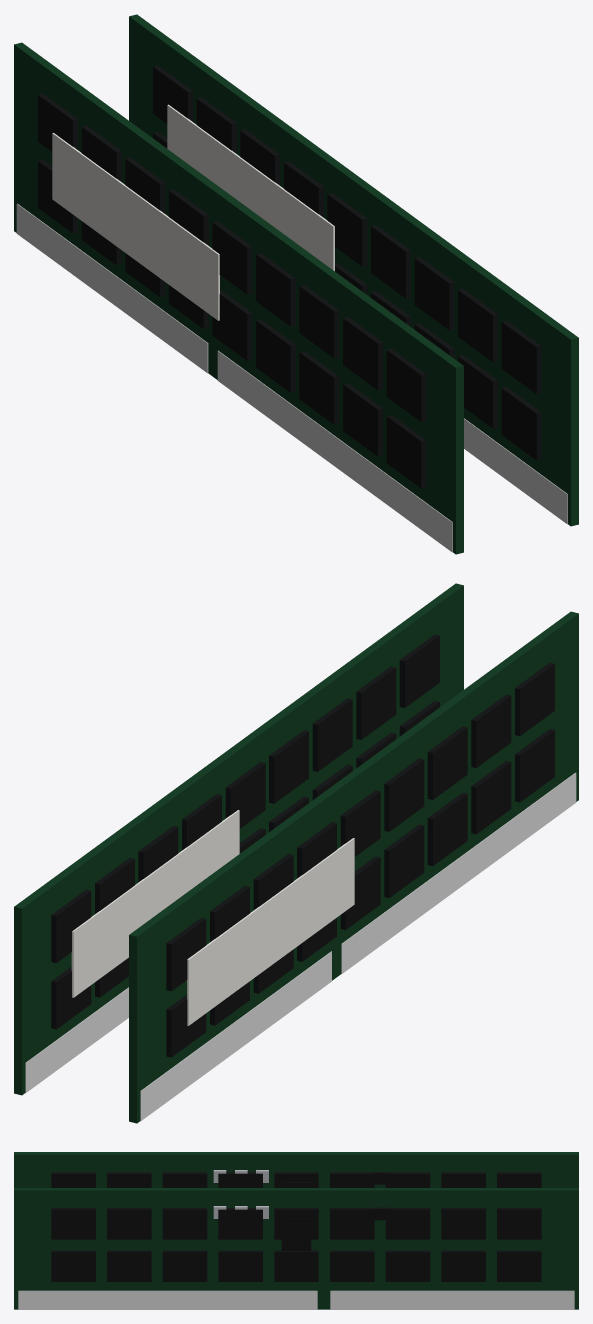
File: hw_ram_ddr5_128gb.glb
3 views of the same model, one above another, from view 1: azimuth 30°, elevation 25°; view 2: azimuth 150°, elevation 25°; view 3: azimuth 270°, elevation 25° (orthographic). The views are drawn at different scales.
Visible parts, largest first — view 1: Stick_1, Body; view 2: Stick_1, Body; view 3: Body, Stick_1.
Part boxes in pixels (box(x1,y1,x2,y2)): Stick_1: box(14, 42, 463, 554); Body: box(129, 14, 578, 526); Stick_1: box(129, 611, 578, 1123); Body: box(14, 583, 463, 1095); Body: box(14, 1188, 578, 1309); Stick_1: box(14, 1152, 578, 1187).
Size of the model in its own units: 0.0236 by 0.031 by 0.133.
